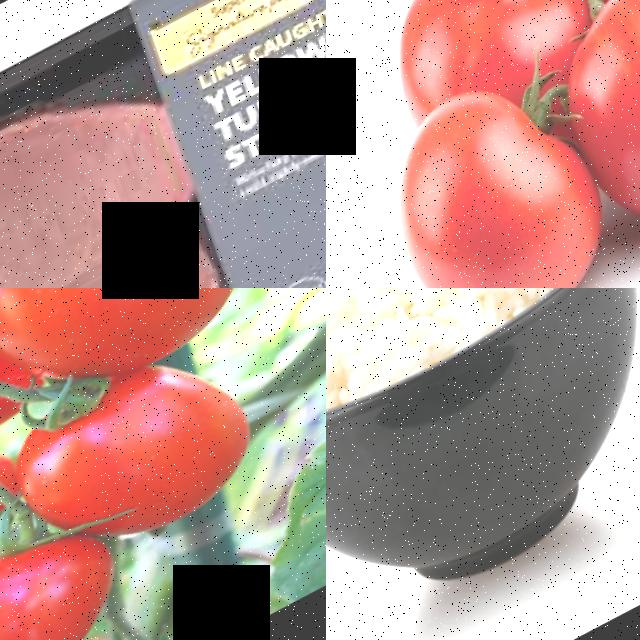tomato: (1, 321, 295, 595), (354, 45, 640, 288), (0, 288, 298, 449), (523, 0, 640, 271), (0, 503, 165, 640)
tuna: (0, 56, 225, 288), (0, 220, 279, 288)
white rice: (326, 288, 640, 467)
